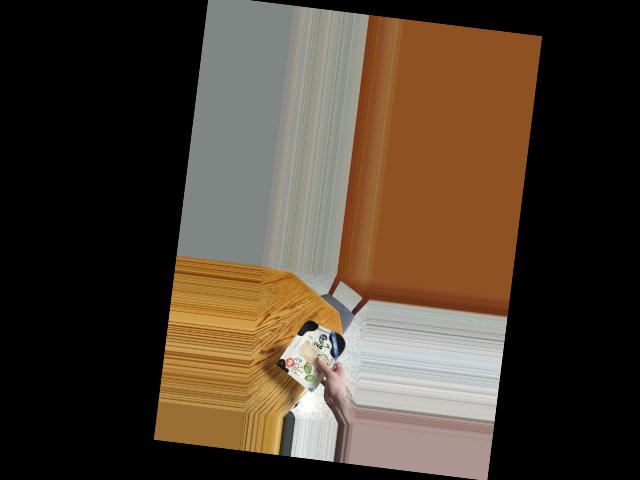cheese: (279, 318, 346, 387)
